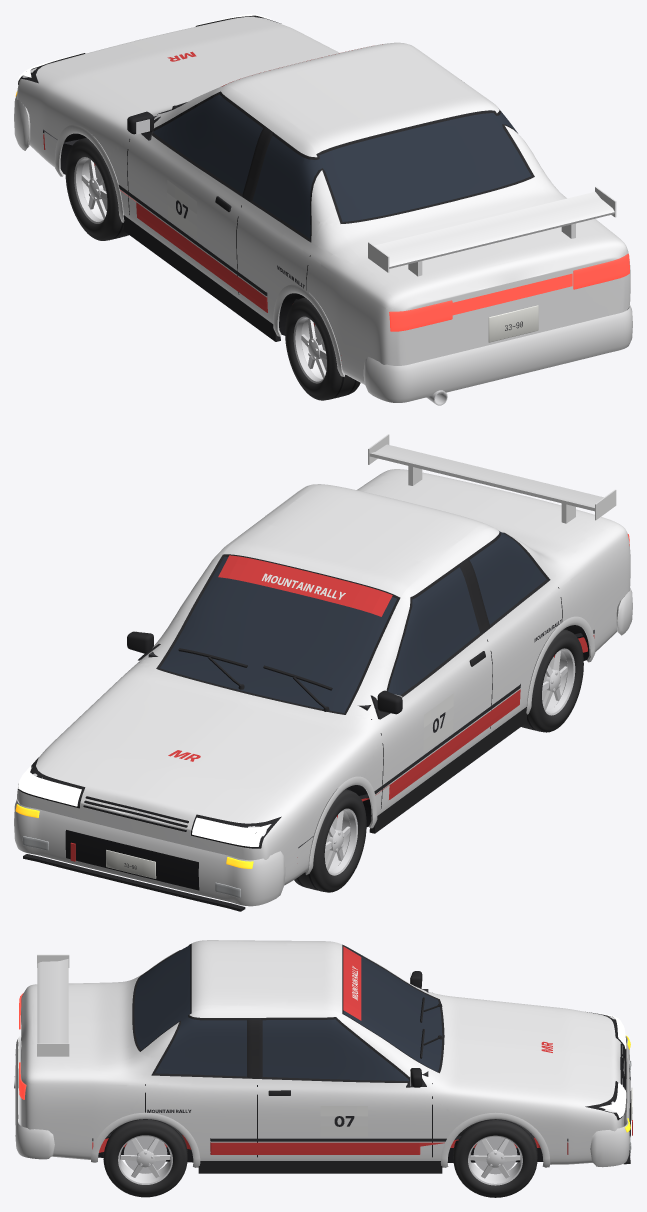
File: evo3.glb
3 views of the same model, one above another, from view 1: azimuth 30°, elevation 25°; view 2: azimuth 150°, elevation 25°; view 3: azimuth 270°, elevation 25° (orthographic). The views are drawn at different scales.
Visible parts, largest first — view 1: Body, Wheel_RL, Wheel_FL; view 2: Body, Wheel_FL, Wheel_RL; view 3: Body, Wheel_FR, Wheel_RR.
Part boxes in pixels (<box>): Body: <box>14,14,632,405</box>; Wheel_RL: <box>285,297,360,400</box>; Wheel_FL: <box>65,137,128,240</box>; Body: <box>14,434,632,911</box>; Wheel_FL: <box>294,789,366,892</box>; Wheel_RL: <box>521,629,583,732</box>; Body: <box>14,940,632,1173</box>; Wheel_FR: <box>453,1119,537,1197</box>; Wheel_RR: <box>103,1119,187,1197</box>.
Bounding box in the file's own units: 1.8 × 1.41 × 4.42.
